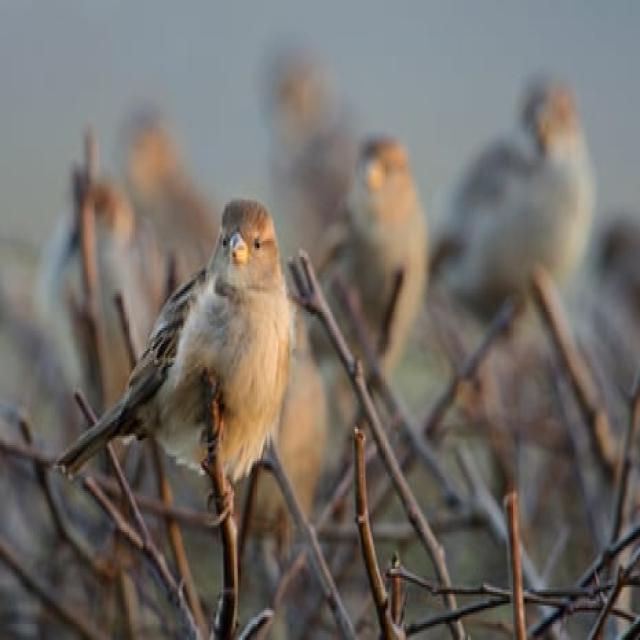bird: (53, 195, 290, 492)
